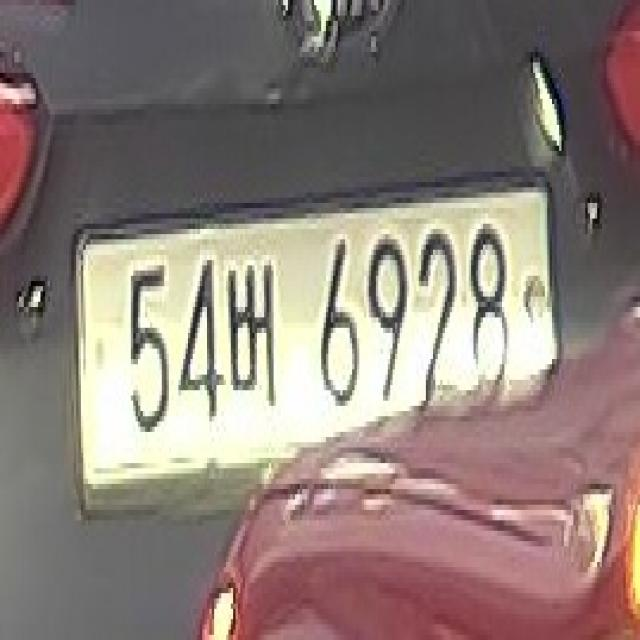2: (412, 187, 466, 427)
4: (178, 224, 224, 437)
5: (109, 234, 181, 448)
6: (304, 234, 366, 437)
8: (464, 172, 514, 422)
9: (362, 203, 418, 406)
beo: (221, 239, 288, 422)
license_plate: (59, 156, 571, 536)
